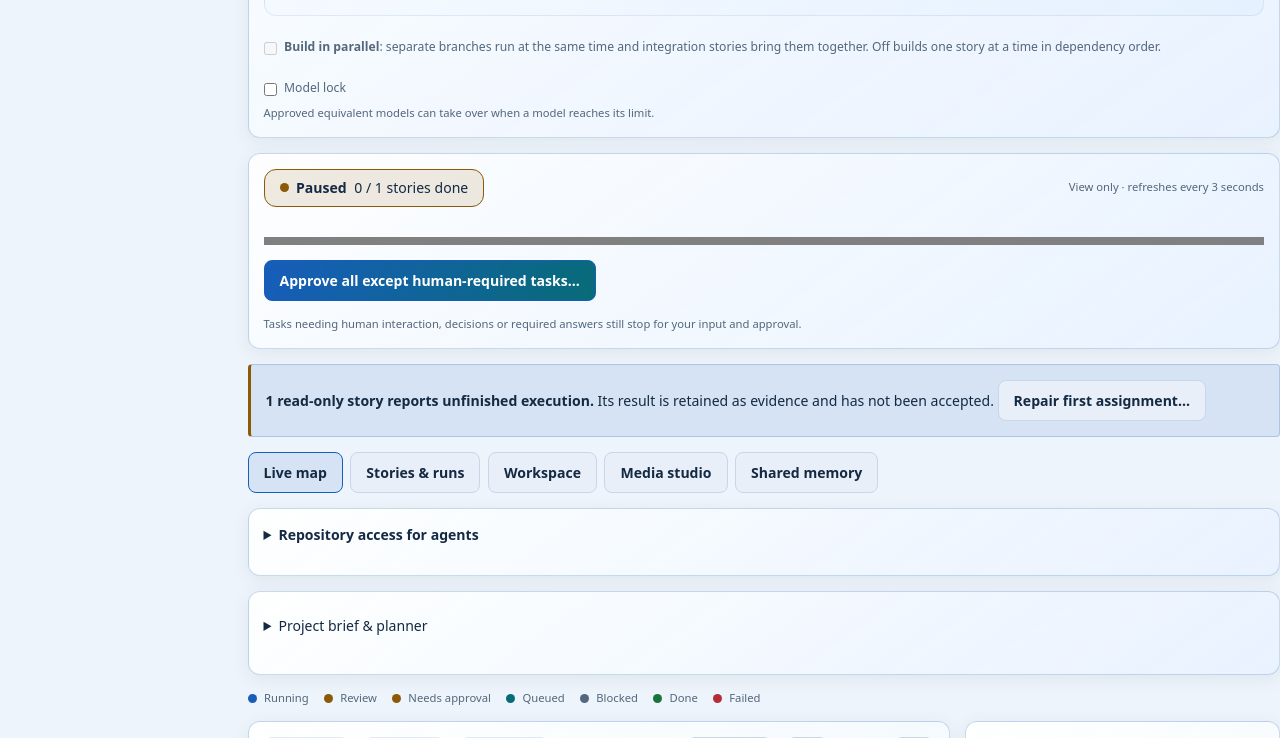
Scenario: repairs an explicitly unfinished read-only assignment only after review
(page scrolled)
Click the button "Repair first assignment…" at (1102, 401), box [998,380,1206,421]
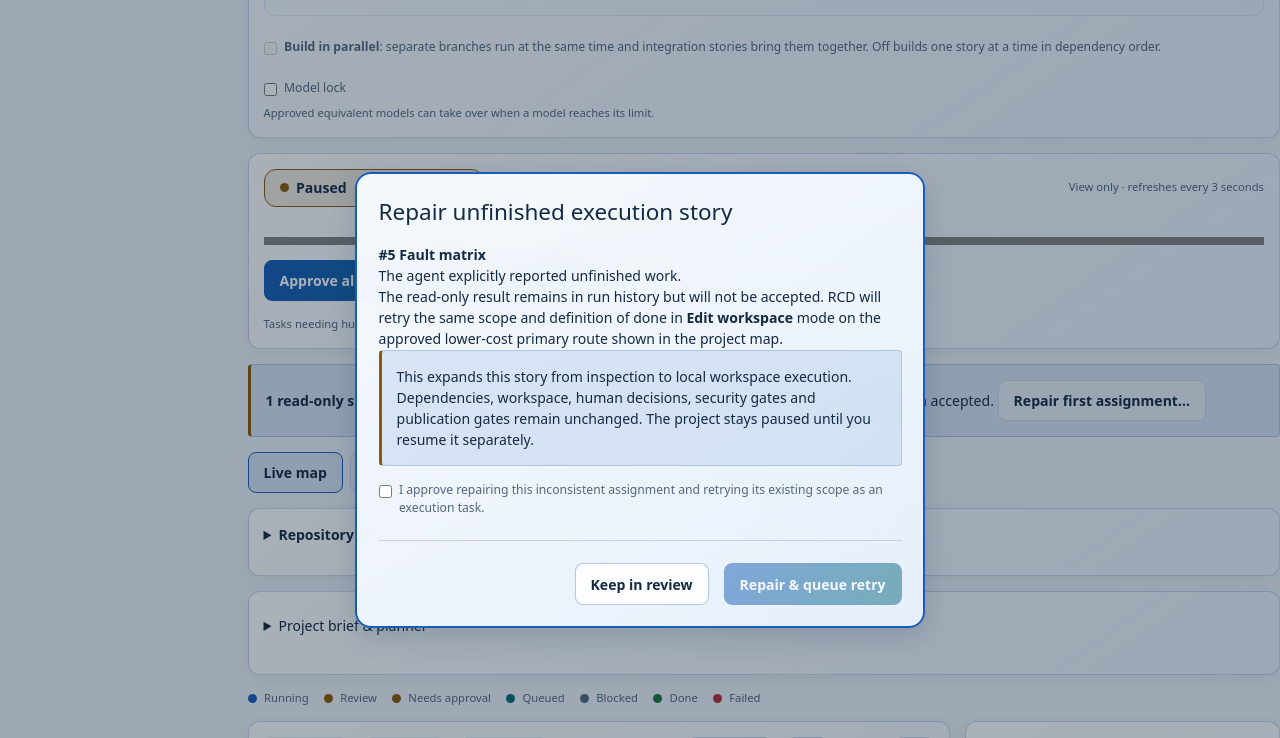
Now the dialog shows "Fault matrix", box [378,245,486,264]
Now the dialog shows "Edit workspace", box [686,308,793,327]
Click the checkbox at (385, 491), box [378,485,392,498]
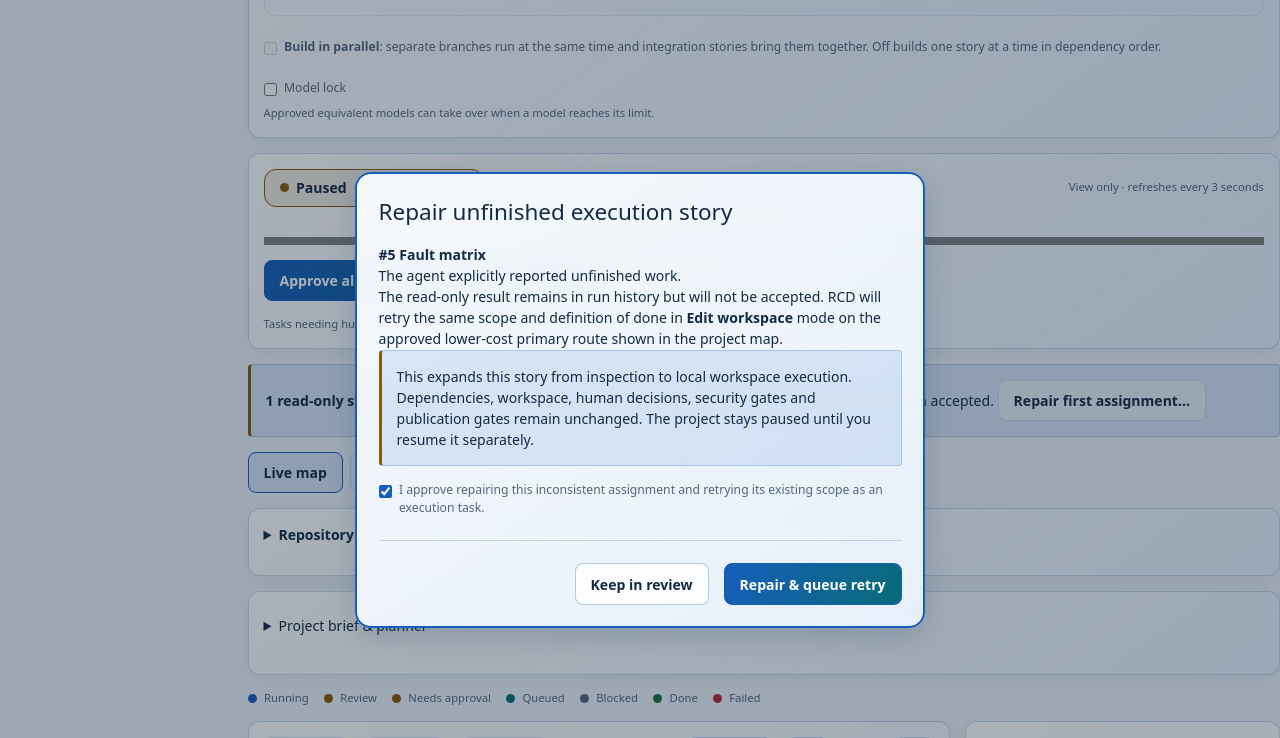
Submit the form, box [378,195,902,605]
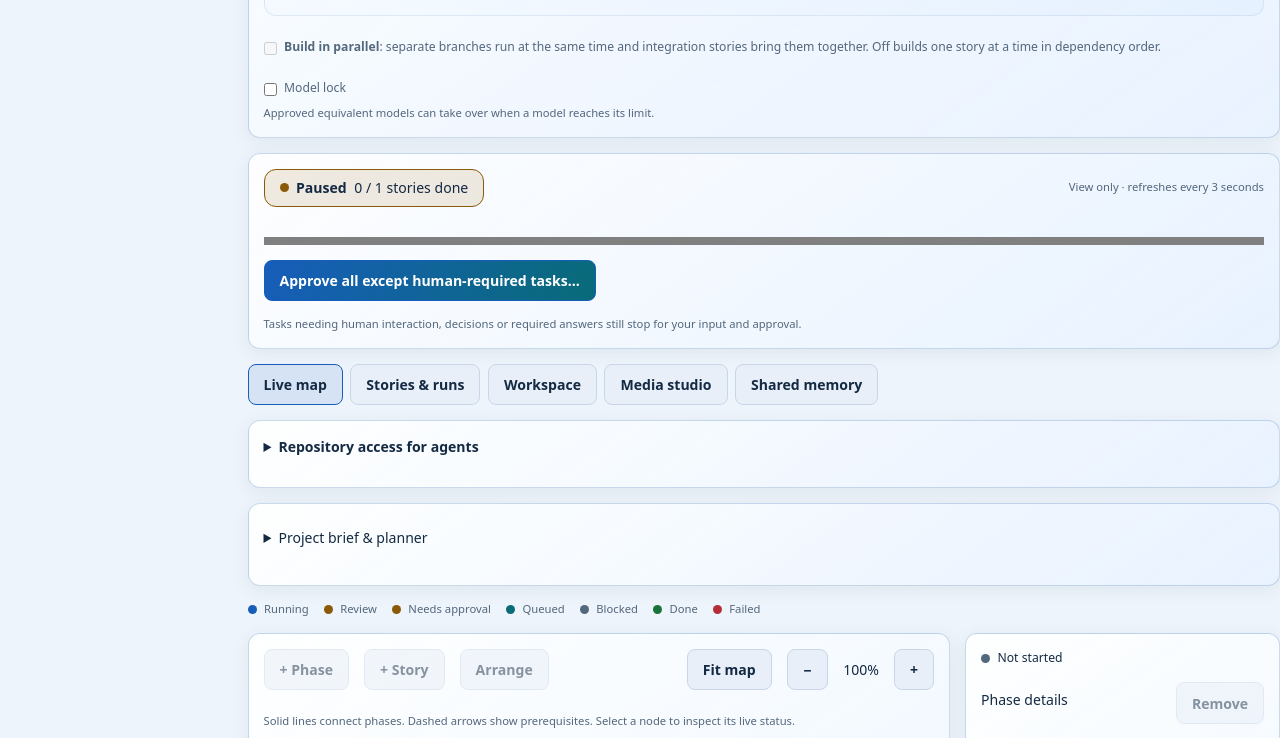
Now the text "read-only story reports unfinished execution" is gone
